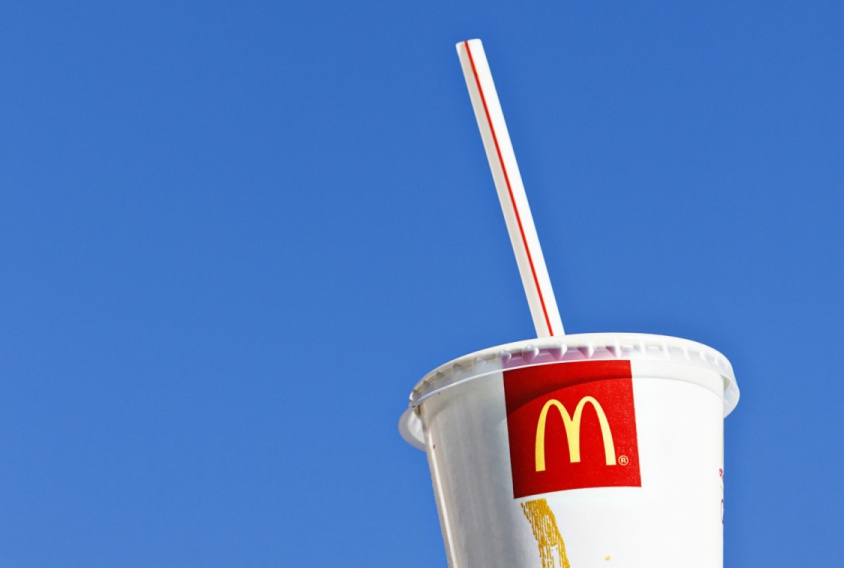mcdonalds: (527, 390, 623, 484)
